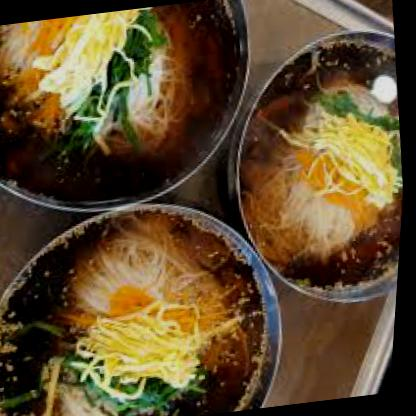banquet noodles: (0, 203, 281, 415), (0, 0, 261, 219), (233, 50, 412, 295)
